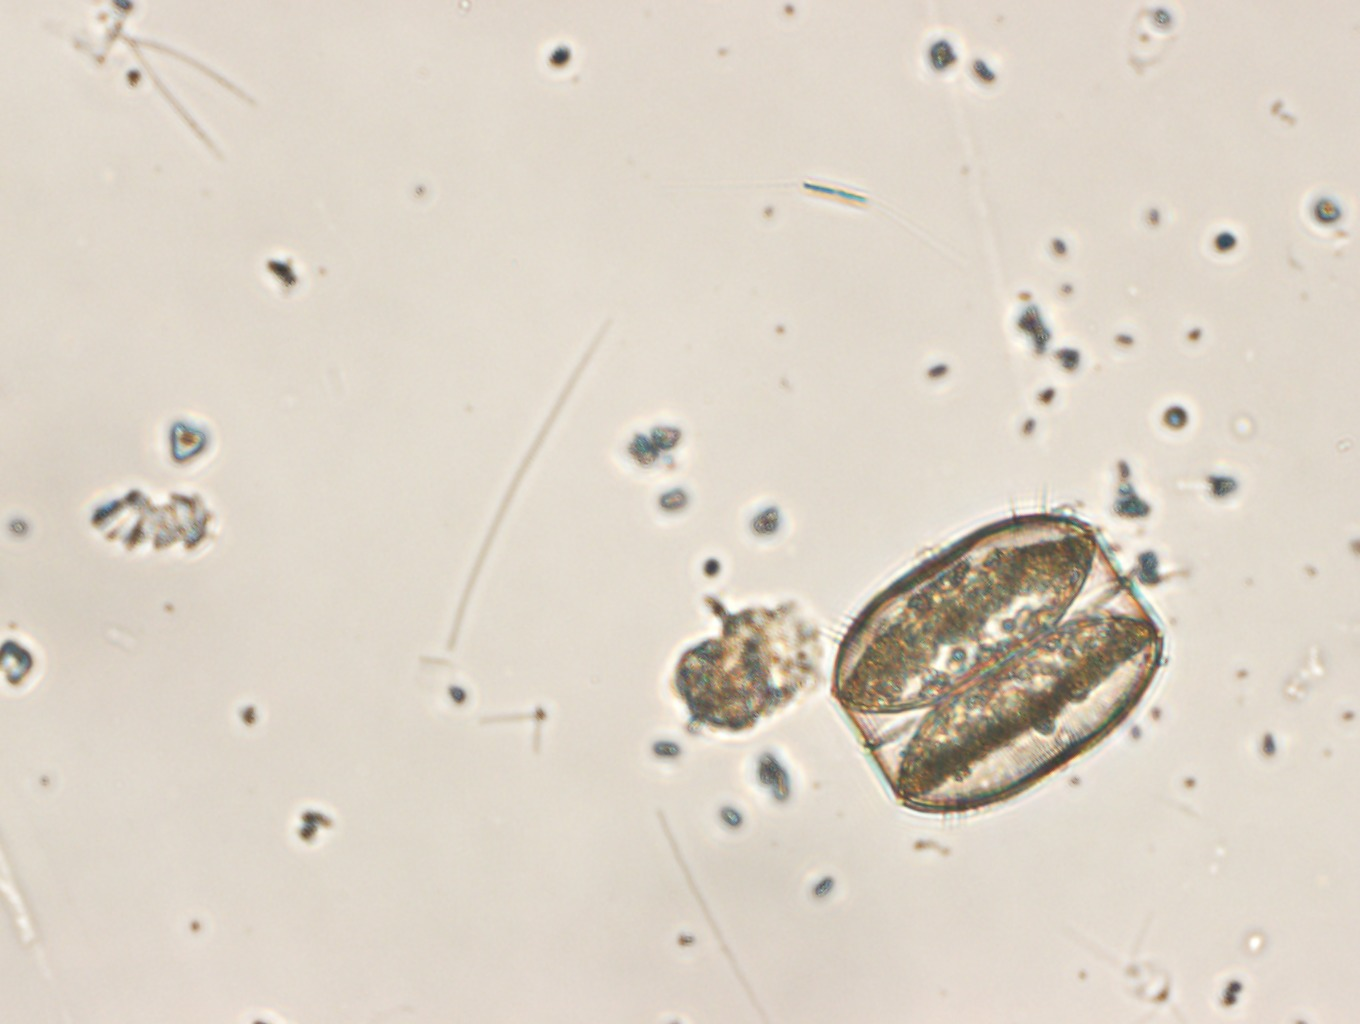coscinodiscus flank: (831, 513, 1161, 814)
